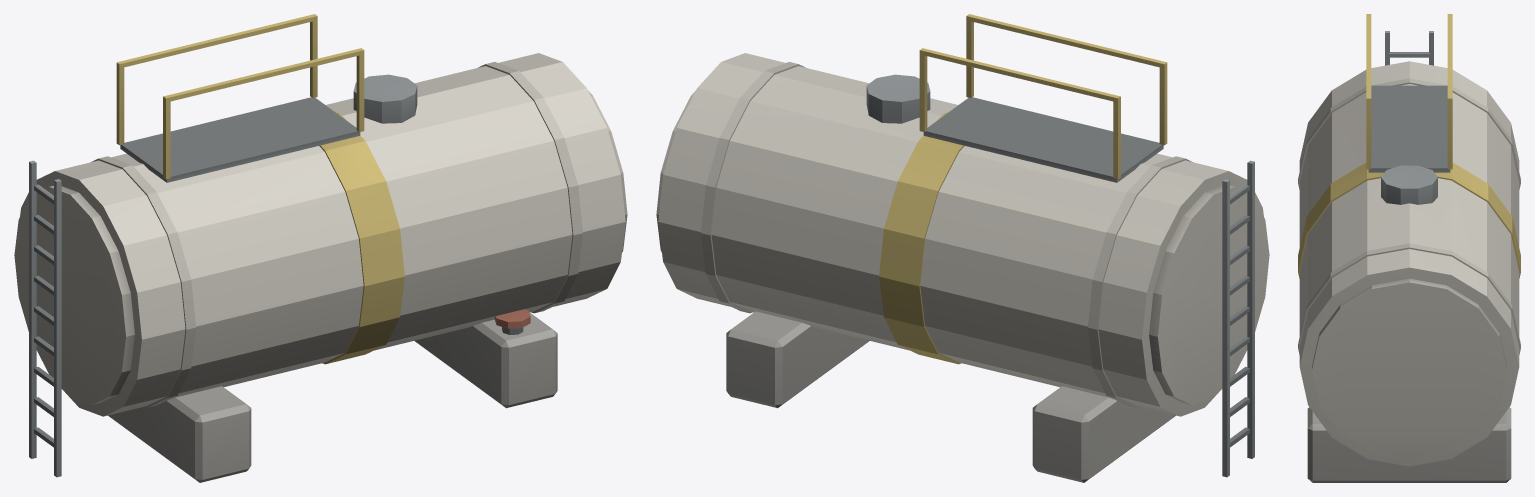
File: mil_fueltank.glb
The picture shows the model from 3 angles, left to right: view 1: azimuth 30°, elevation 25°; view 2: azimuth 150°, elevation 25°; view 3: azimuth 270°, elevation 25°; orthographic projection. The views are drawn at different scales.
Visible parts, largest first — view 1: mil_fueltank; view 2: mil_fueltank; view 3: mil_fueltank.
Boxes of the visible parts, left/top/right/bottom form: mil_fueltank: left=14, top=14, right=627, bottom=482; mil_fueltank: left=656, top=14, right=1269, bottom=482; mil_fueltank: left=1298, top=14, right=1520, bottom=482.
Bounding box in the file's own units: 6.56 × 4.3 × 2.74.
